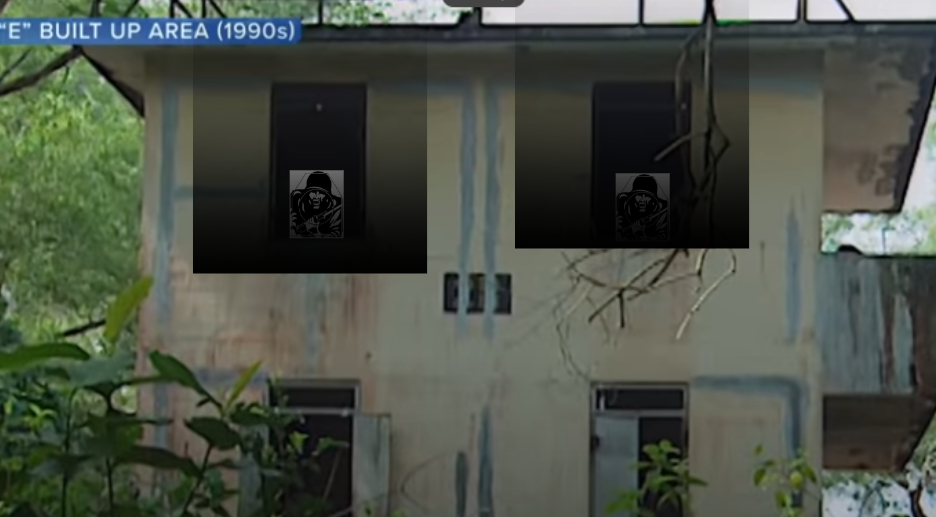HVT1: (290, 169, 343, 238), (615, 173, 670, 239)
